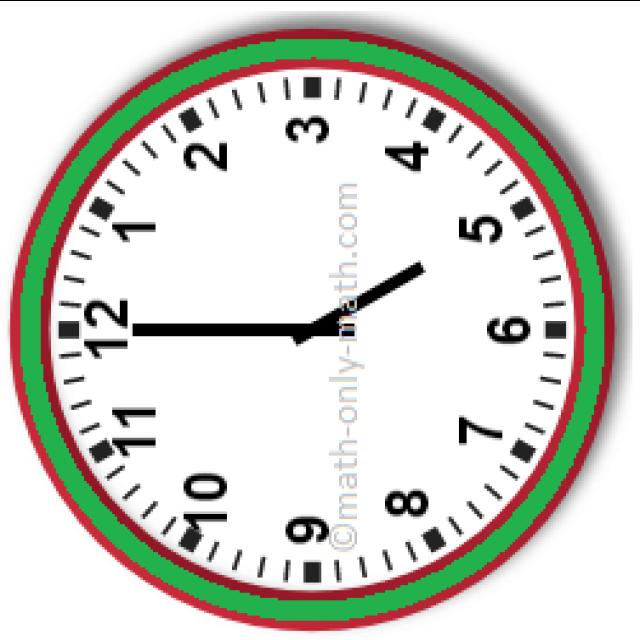clock: (0, 8, 594, 640)
